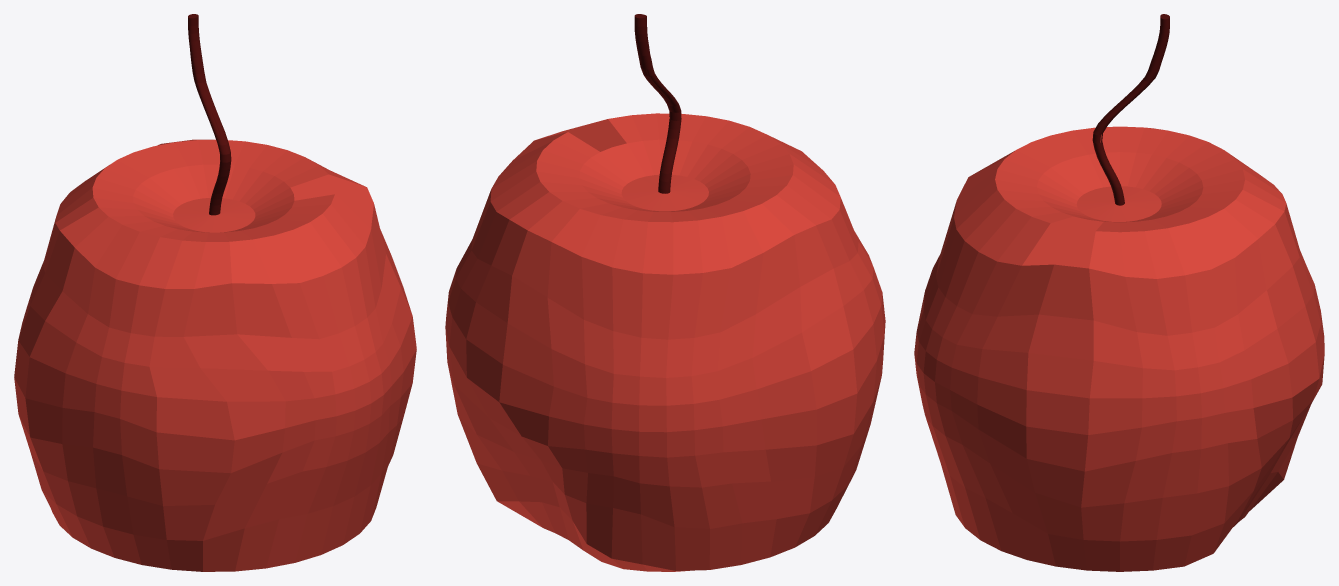
File: melarossa.fbx
The picture shows the model from 3 angles, left to right: view 1: azimuth 30°, elevation 25°; view 2: azimuth 150°, elevation 25°; view 3: azimuth 270°, elevation 25°; orthographic projection. The views are drawn at different scales.
Visible parts, largest first — view 1: Sphere; view 2: Sphere; view 3: Sphere.
Boxes of the visible parts, <box> form: Sphere: <box>14,14,416,571</box>; Sphere: <box>445,14,885,571</box>; Sphere: <box>914,14,1324,571</box>.
Size of the model in its own units: 198 by 255 by 189.
